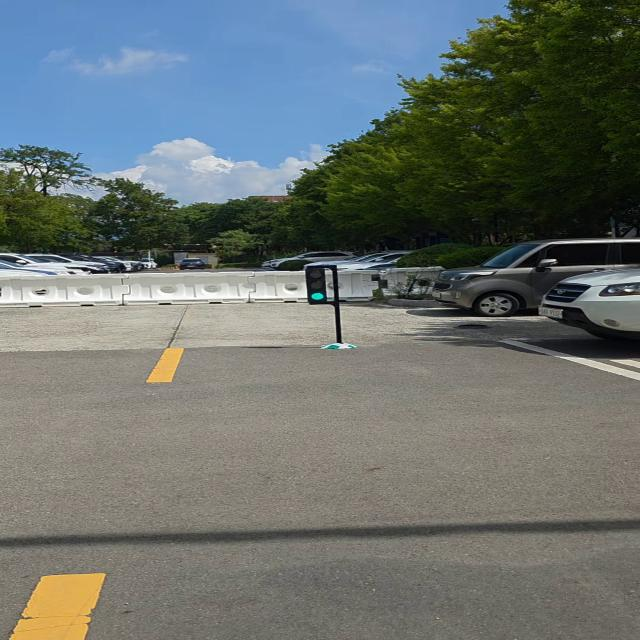green: (302, 264, 332, 305)
